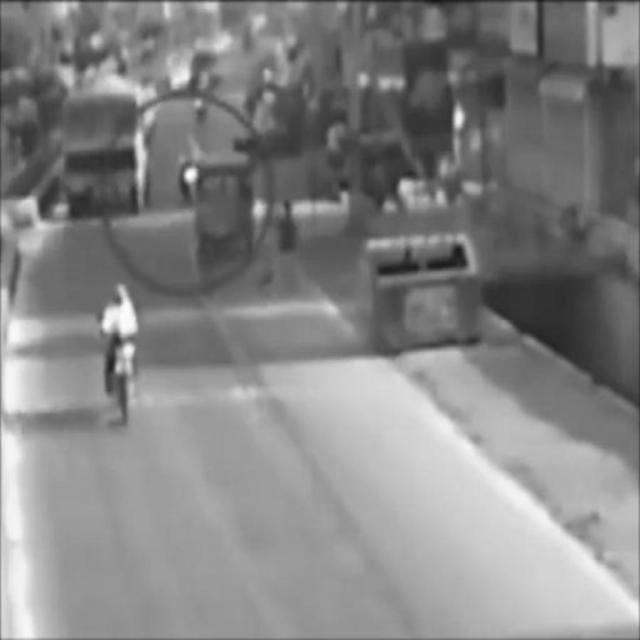person: (278, 200, 300, 291)
vehicle: (63, 94, 149, 210), (97, 283, 138, 427), (200, 164, 255, 257), (182, 133, 202, 213)
